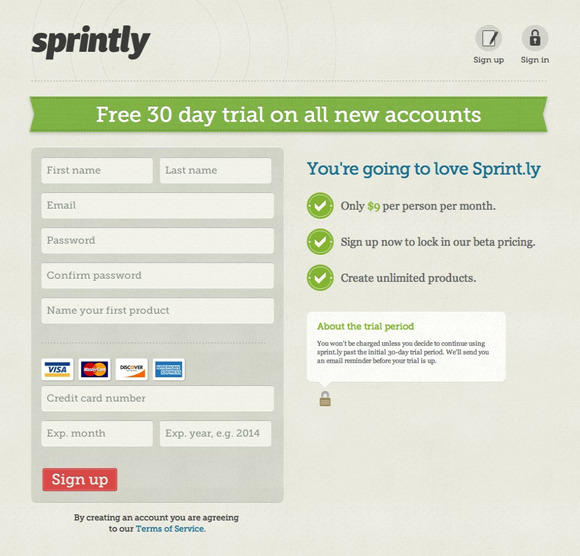button: (42, 467, 118, 492)
field: (40, 191, 275, 220), (40, 296, 275, 325), (40, 385, 276, 413), (40, 226, 275, 254), (40, 262, 274, 290), (40, 419, 154, 448), (40, 156, 153, 185), (158, 157, 271, 185), (158, 420, 273, 447)
